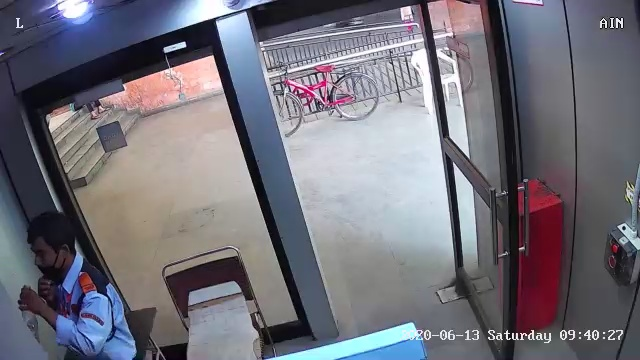open: (202, 5, 558, 357)
